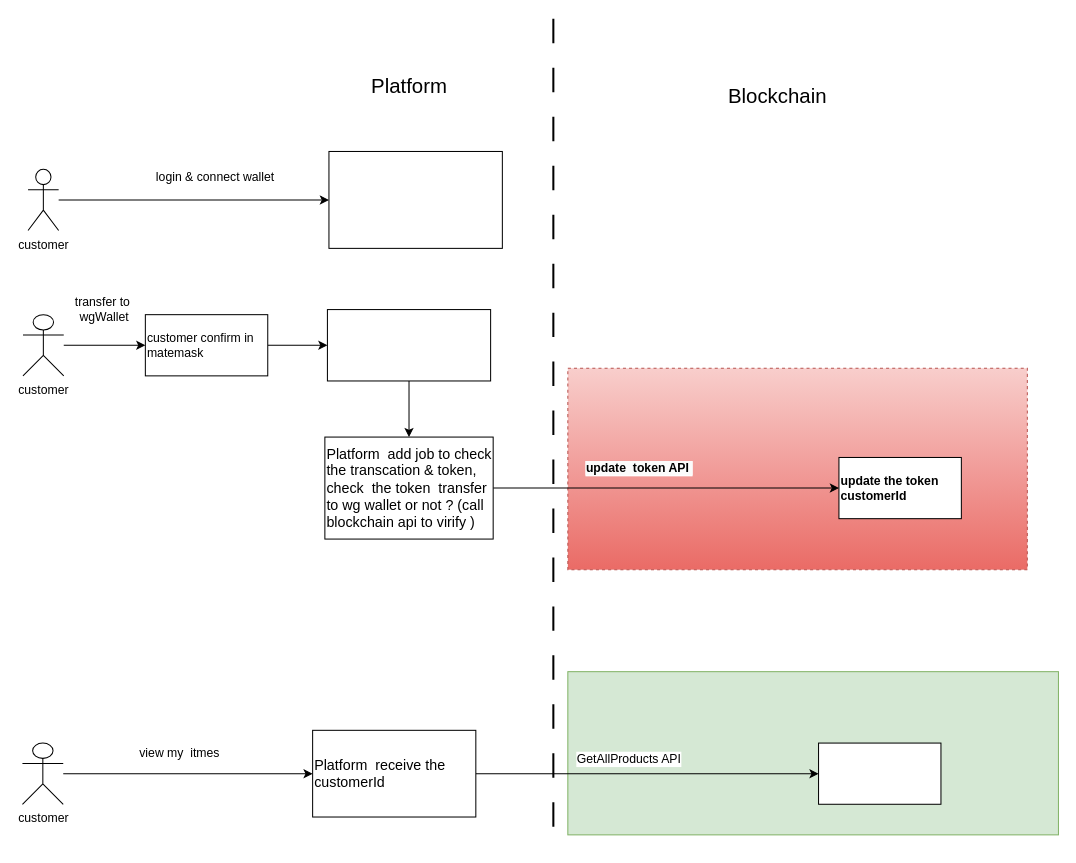
Some shapes in this 1076 by 863 pixel diagram are drawn without their labels. Each missing label, with the centre of its shape:
Platform receive constomerId & walletAddress, mapping & store in login session.: point 415,199
Platform receive transcationId / tokenId: point 408,345
recevice request: point 879,773
